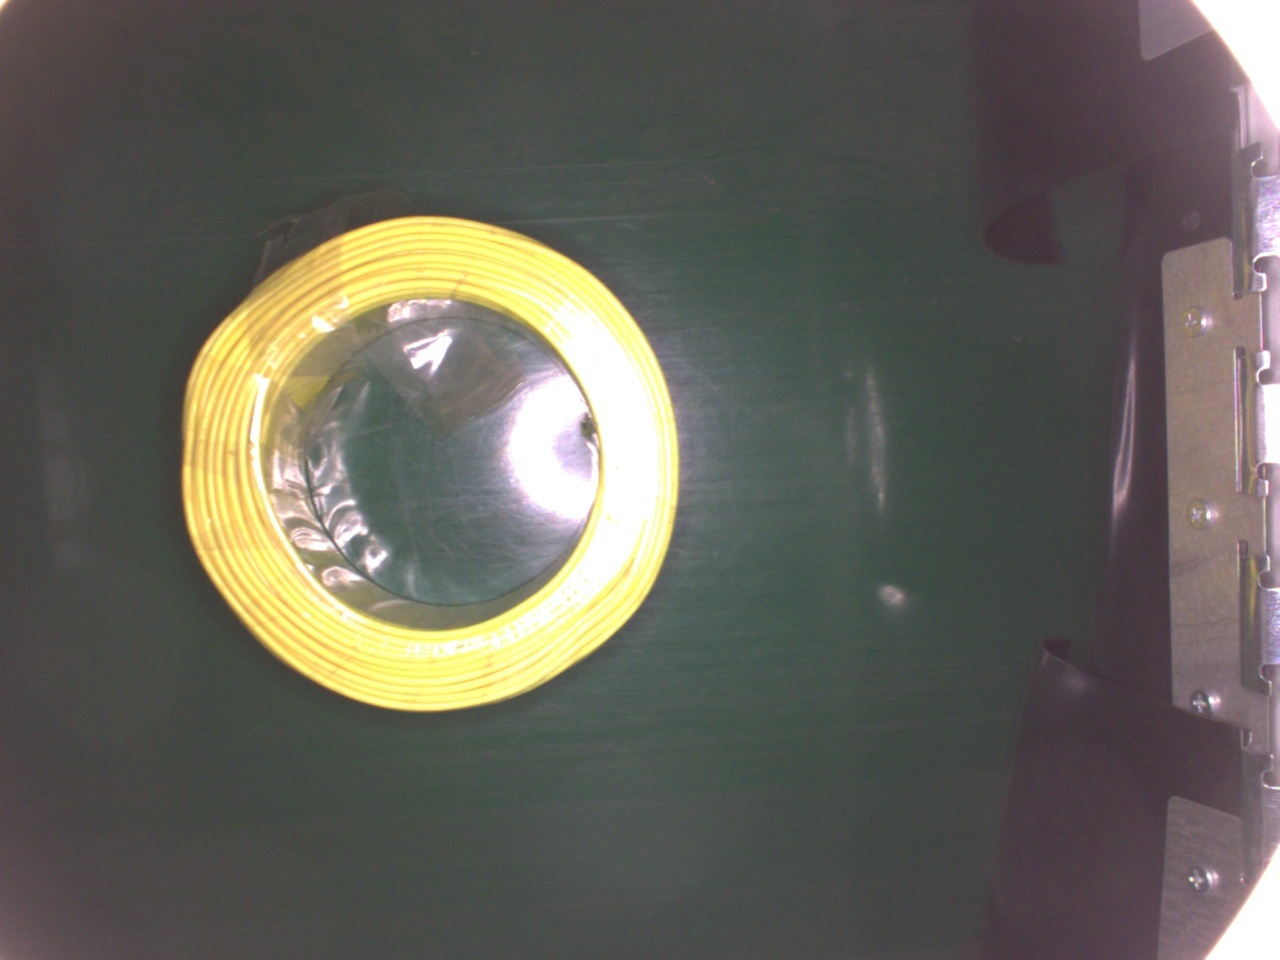yellow: (179, 213, 679, 715)
